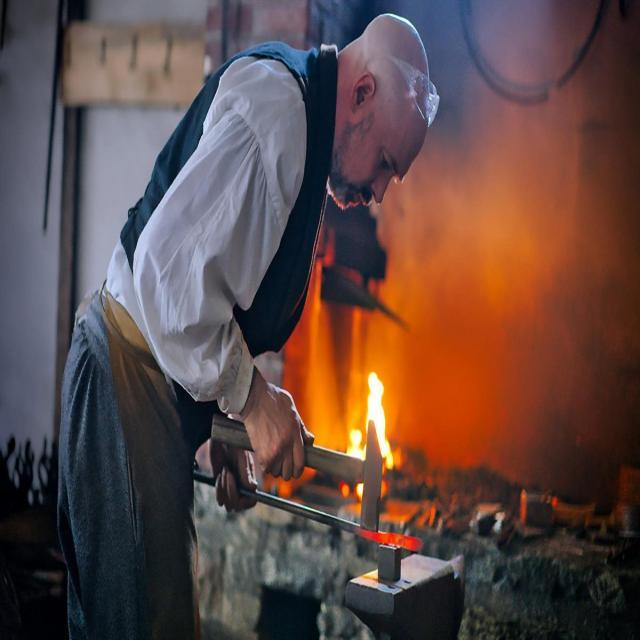hammer: (195, 397, 395, 548)
